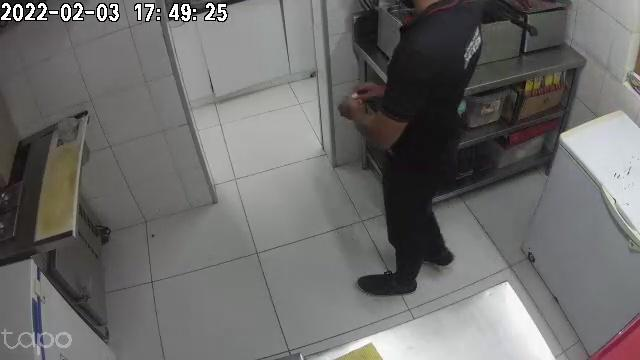no_gloves: (339, 95, 367, 127), (356, 80, 382, 98)
